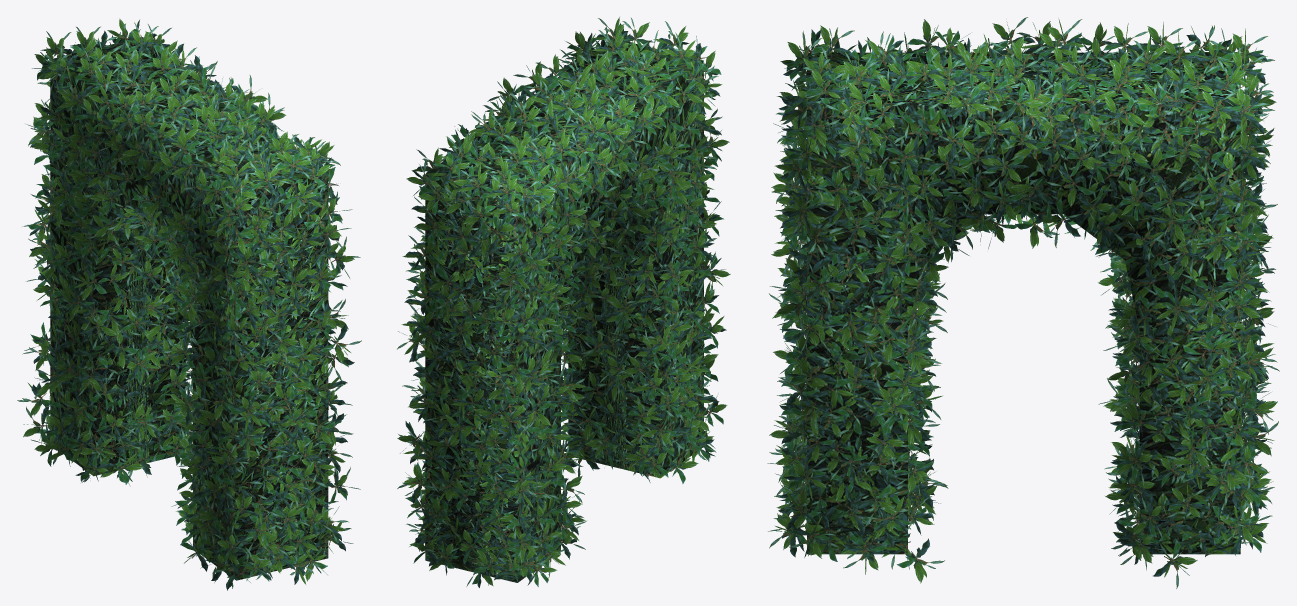
File: hedge-arch.glb
The picture shows the model from 3 angles, left to right: view 1: azimuth 30°, elevation 25°; view 2: azimuth 150°, elevation 25°; view 3: azimuth 270°, elevation 25°; orthographic projection. The views are drawn at different scales.
Size of the model in its own units: 27.21 by 74.29 by 67.12.
1 material, 1 textured.
